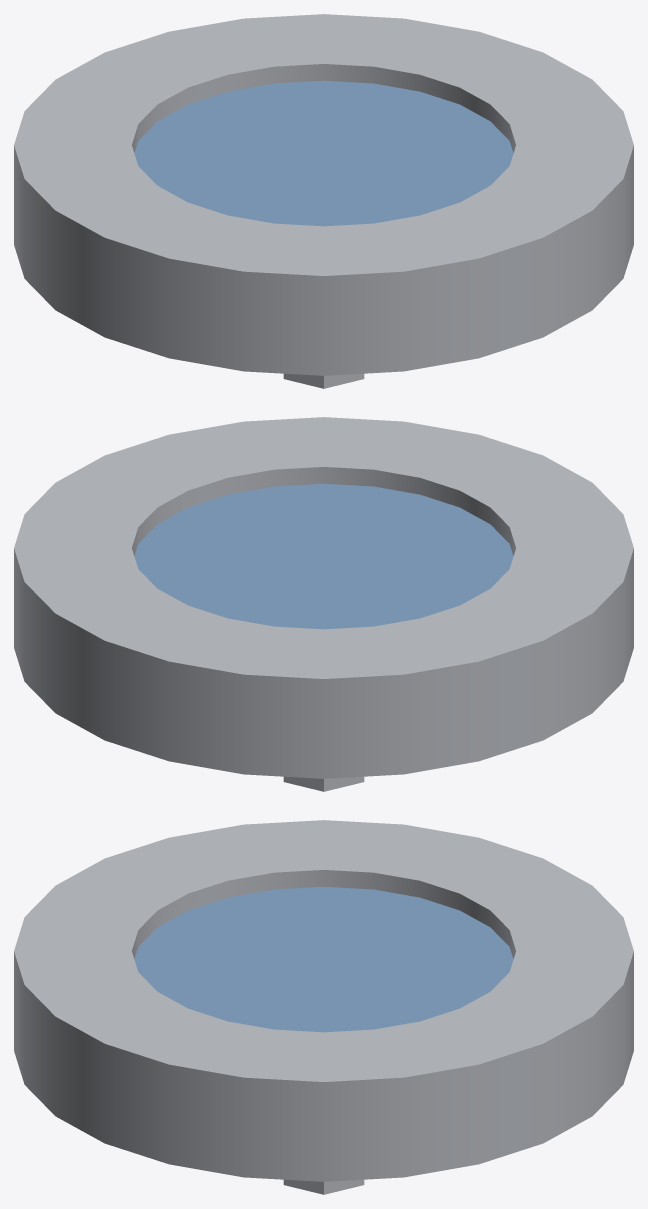
The model's file is iron.glb.
3 renders of one model, top to bottom at view 1: azimuth 30°, elevation 25°; view 2: azimuth 150°, elevation 25°; view 3: azimuth 270°, elevation 25°, orthographic.
Parts seen in each view (by area): view 1: core_iron; view 2: core_iron; view 3: core_iron.
Boxes of the visible parts, <box> form: core_iron: <box>14,14,633,388</box>; core_iron: <box>14,417,633,791</box>; core_iron: <box>14,820,633,1194</box>.
Size of the model in its own units: 20 by 5.55 by 20.
